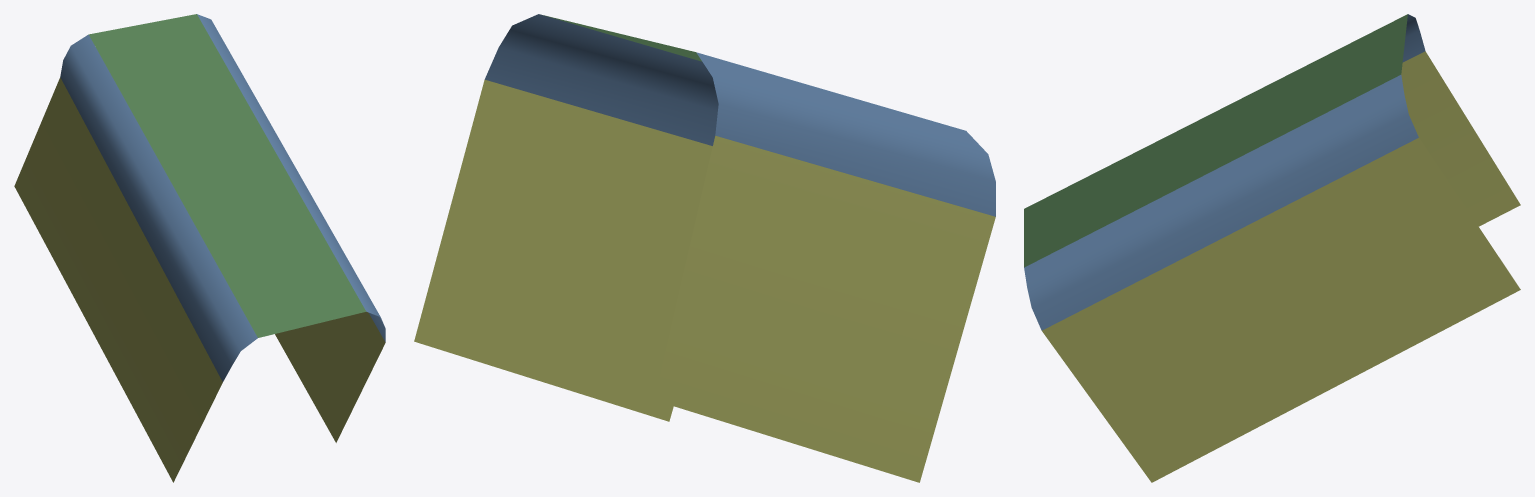
File: Rampa.fbx
3 views of the same model, side by side, from view 1: azimuth 30°, elevation 25°; view 2: azimuth 150°, elevation 25°; view 3: azimuth 270°, elevation 25° (orthographic). The views are drawn at different scales.
Parts seen in each view (by area): view 1: Rampa, Ground4, Wall4; view 2: Rampa, Wall4, Ground4; view 3: Rampa, Wall4, Ground4.
Part boxes in pixels (x1,y1,x2,y2): Rampa: (14, 77, 385, 482); Ground4: (88, 14, 365, 337); Wall4: (60, 14, 385, 381); Rampa: (414, 80, 995, 482); Wall4: (484, 14, 995, 216); Ground4: (543, 15, 701, 61); Rampa: (1042, 51, 1520, 482); Wall4: (1024, 14, 1425, 330); Ground4: (1024, 14, 1407, 267).
Size of the model in its own units: 1961 by 4109 by 4661.
